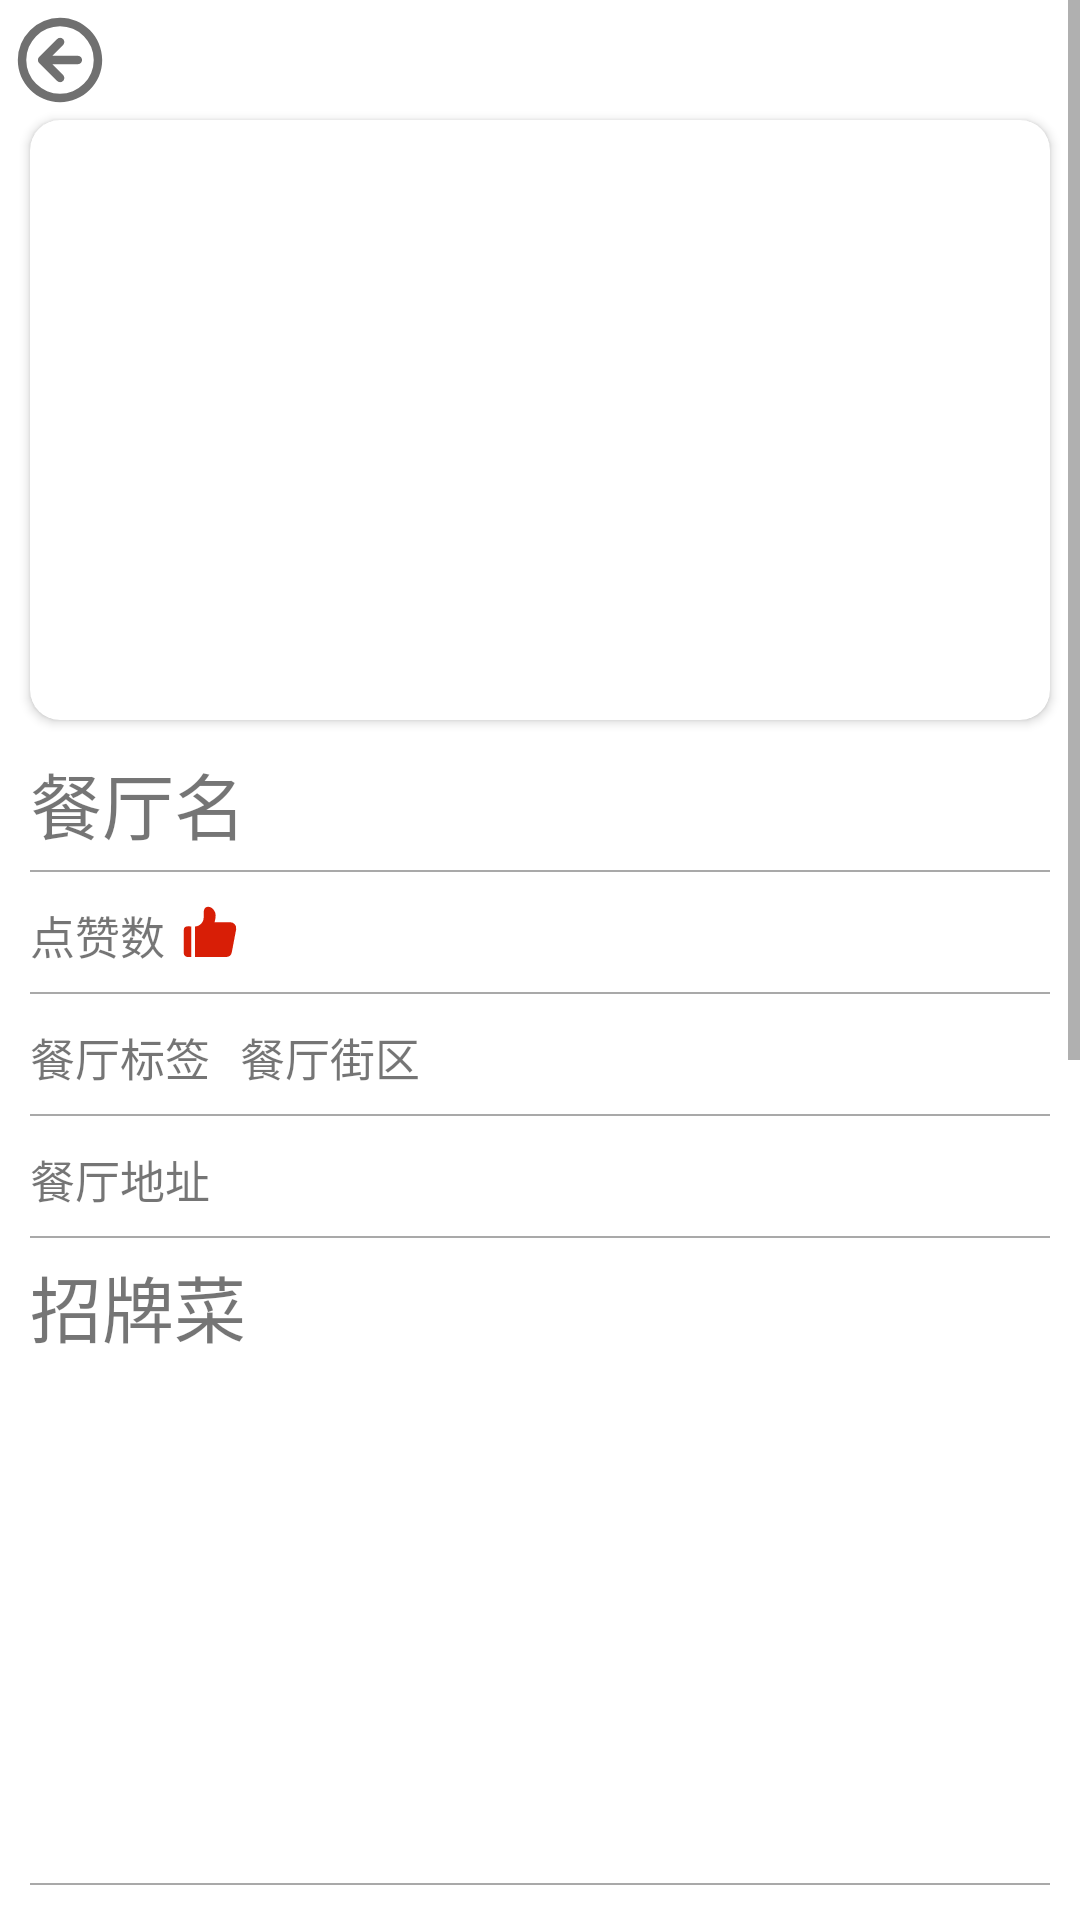

Named icons in this screenshot (1080px x 1920px) and their centers, (x,y):
back: (60,60)
liked: (210,931)
